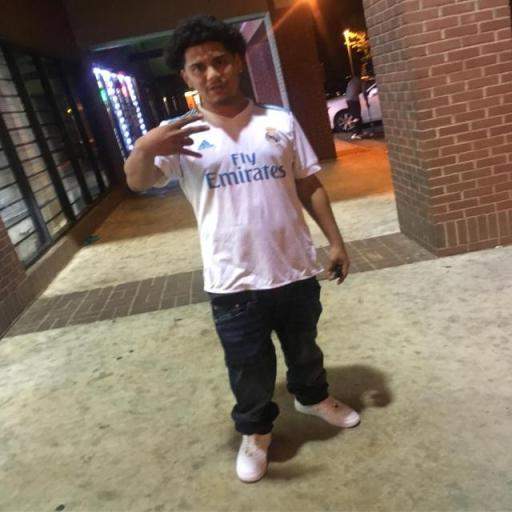Adidas: (195, 138, 216, 152)
Emirates: (204, 149, 290, 189)
